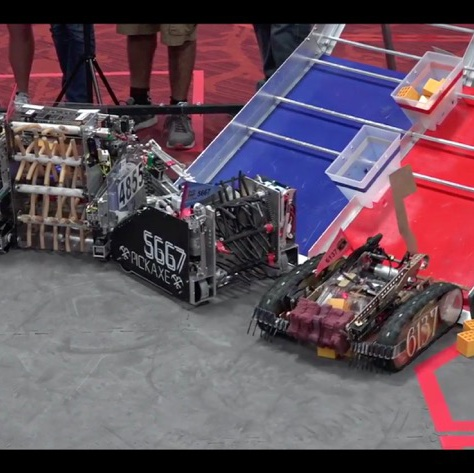robot: (245, 220, 468, 375), (2, 83, 163, 259), (104, 173, 310, 307)
